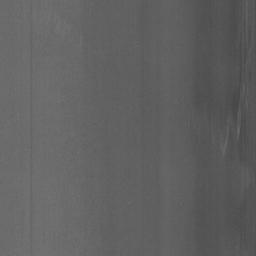Silk spot: (230, 0, 256, 162), (235, 222, 246, 248), (226, 127, 234, 161), (230, 0, 237, 32), (194, 85, 201, 108)
